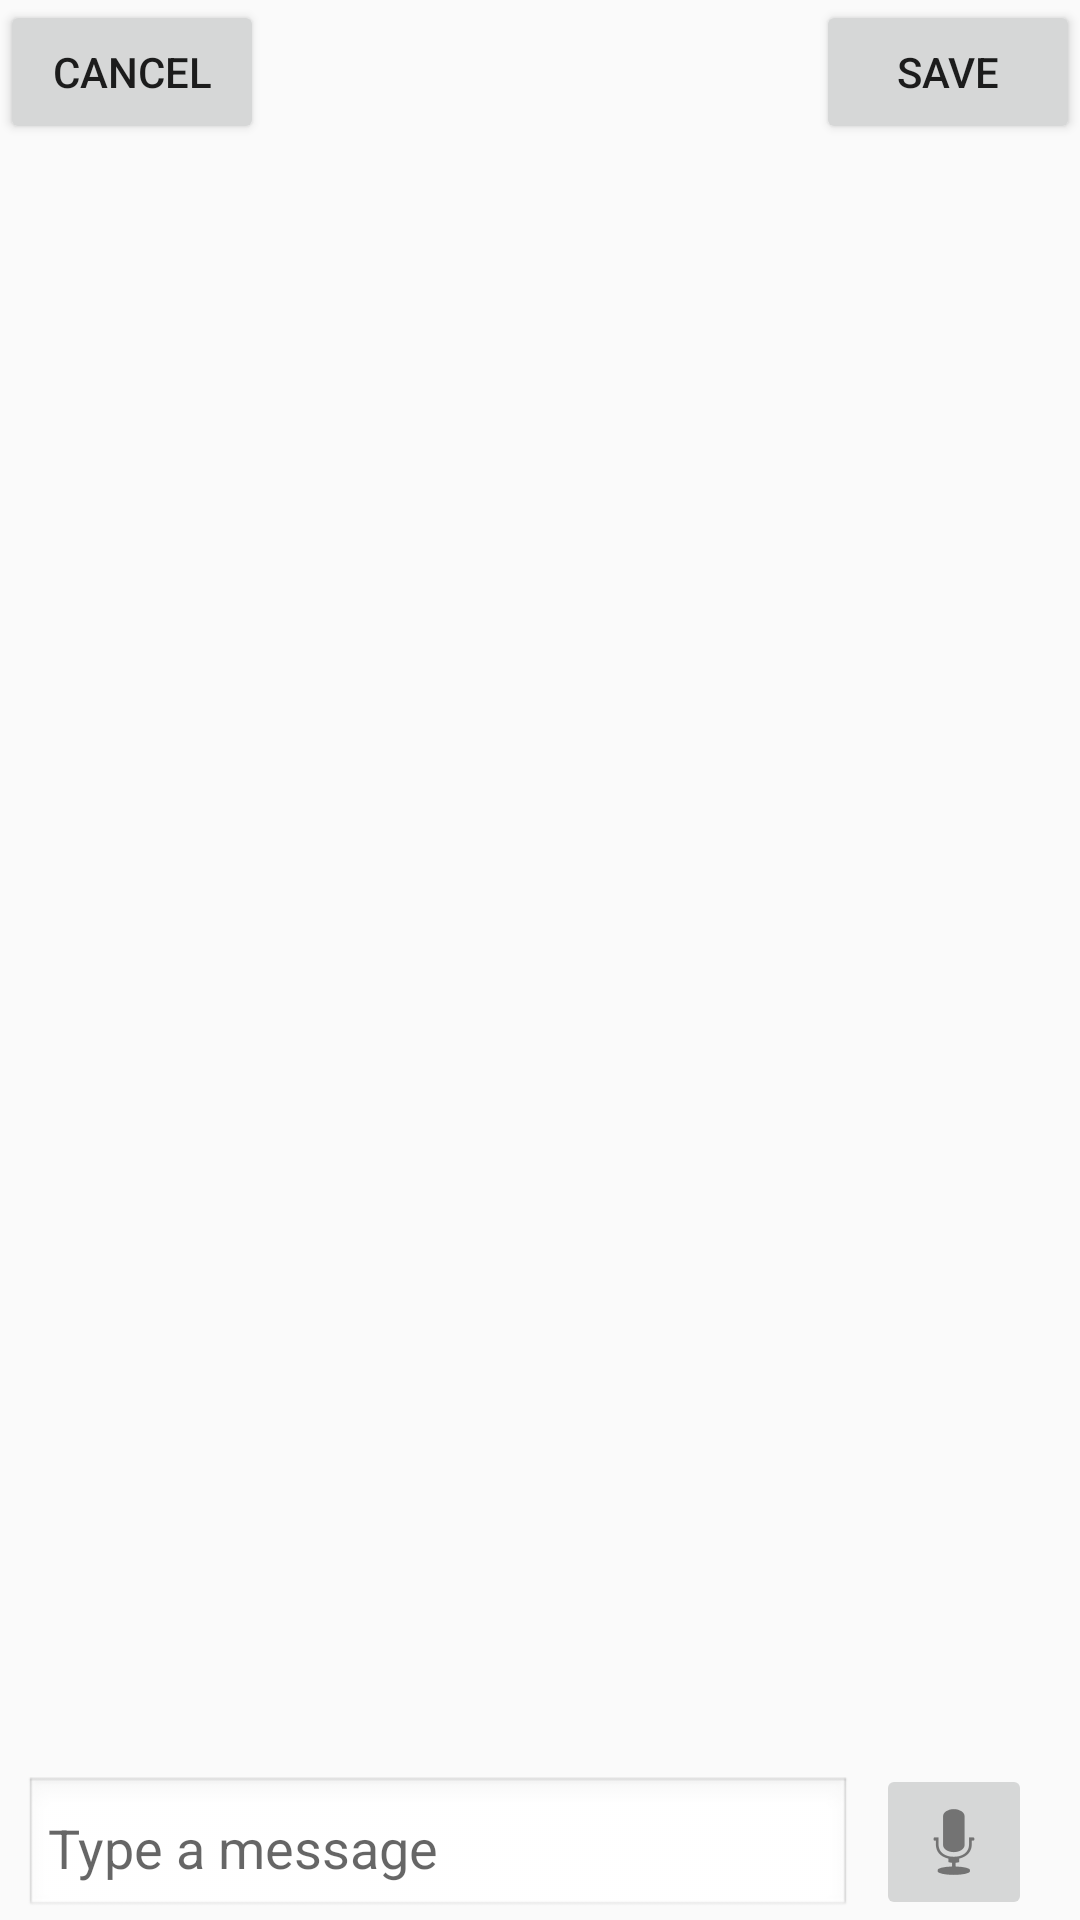

Locate icon controls on the screen. Image size 1080x1920, boxes as (x1, y1, x2, y2).
speak now: (888, 1782, 1020, 1902)
